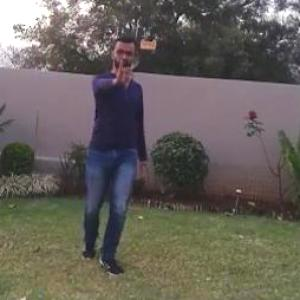takeoff-hand: (107, 56, 142, 92)
